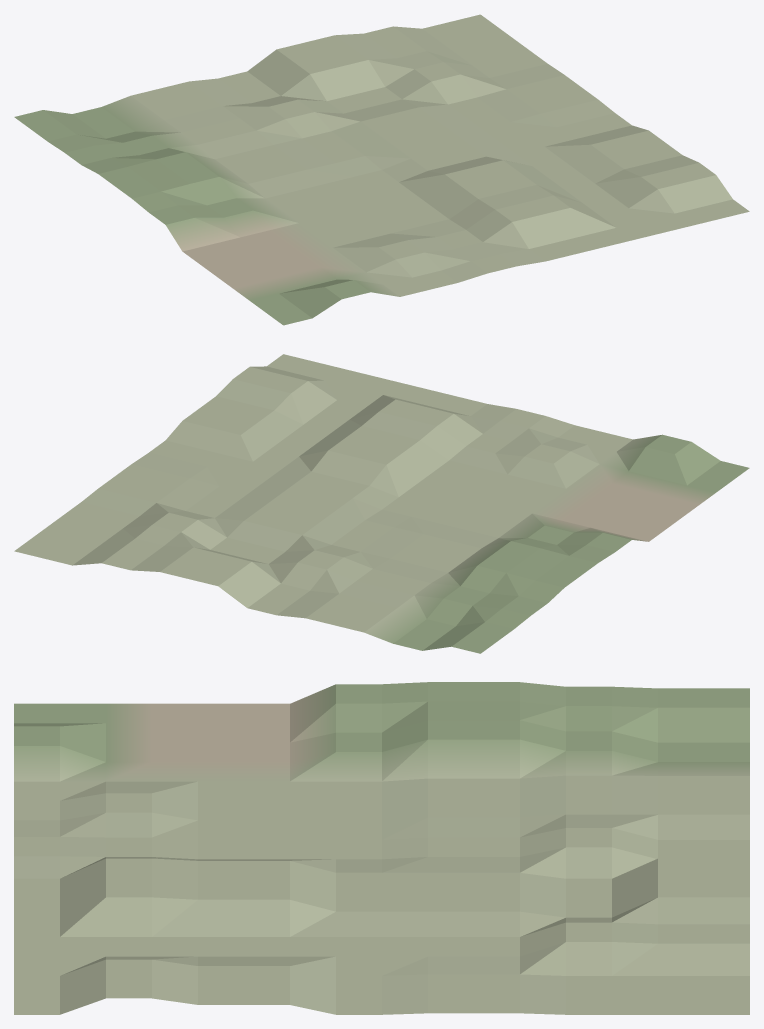
3 renders of one model, top to bottom at view 1: azimuth 30°, elevation 25°; view 2: azimuth 150°, elevation 25°; view 3: azimuth 270°, elevation 25°, orthographic. The views are drawn at different scales.
Size of the model in its own units: 32 by 1.08 by 32.
